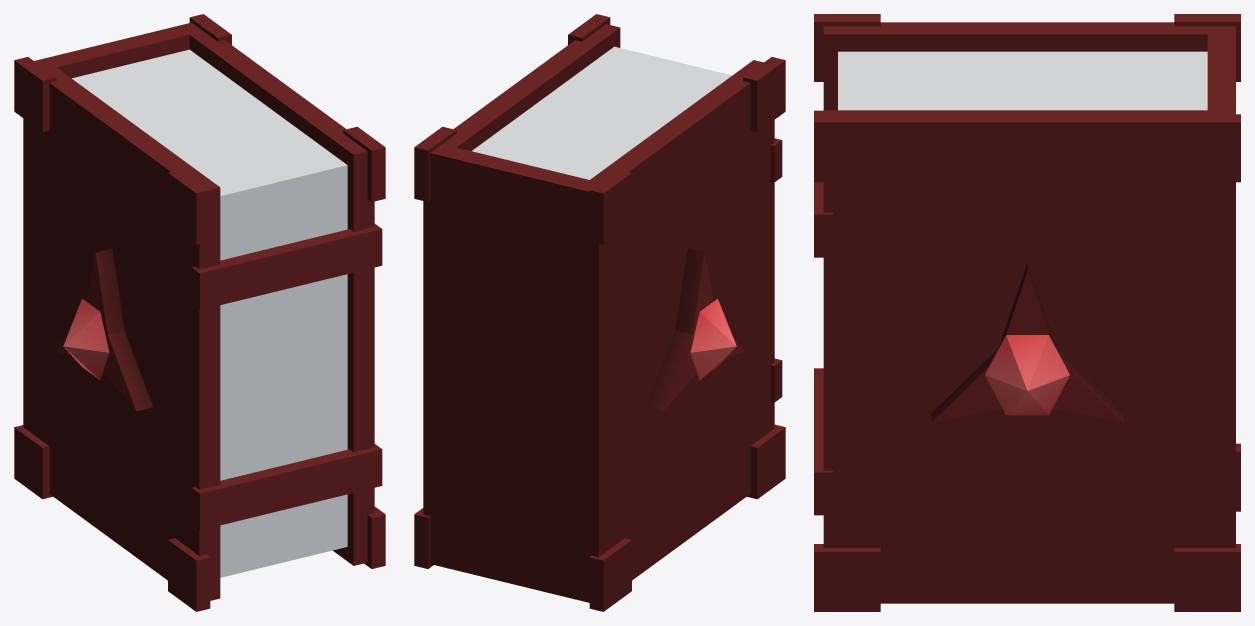
Rendered from mage_off_3.gltf.
The picture shows the model from 3 angles, left to right: view 1: azimuth 30°, elevation 25°; view 2: azimuth 150°, elevation 25°; view 3: azimuth 270°, elevation 25°; orthographic projection. The views are drawn at different scales.
Parts seen in each view (by area): view 1: mage_off_3; view 2: mage_off_3; view 3: mage_off_3.
Boxes of the visible parts, <box> form: mage_off_3: <box>14,14,385,611</box>; mage_off_3: <box>414,14,785,611</box>; mage_off_3: <box>814,14,1240,611</box>.
Size of the model in its own units: 0.39 by 0.57 by 0.45.
1 material, 1 textured.
